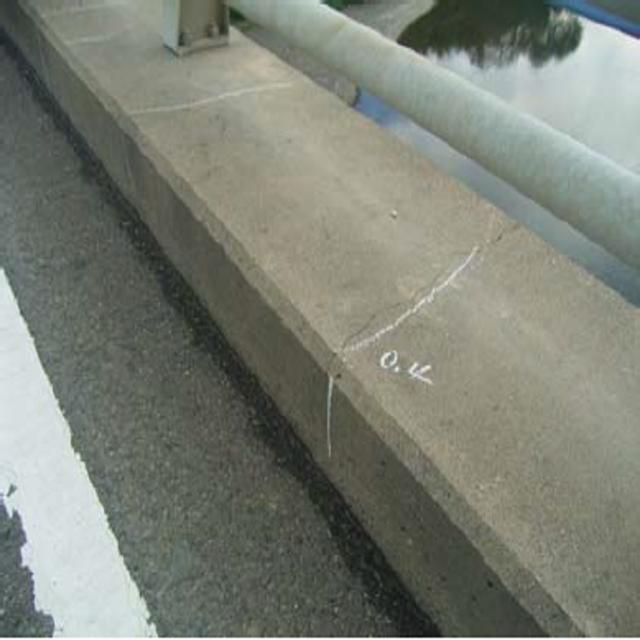crack: (303, 209, 541, 367)
